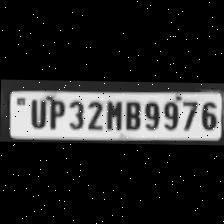2: (84, 98, 104, 130)
3: (64, 97, 84, 130)
6: (196, 99, 220, 130)
7: (177, 99, 197, 130)
9: (159, 98, 179, 130), (142, 98, 160, 130)
B: (121, 98, 141, 131)
M: (102, 97, 122, 130)
P: (44, 96, 64, 130)
U: (25, 96, 47, 128)
